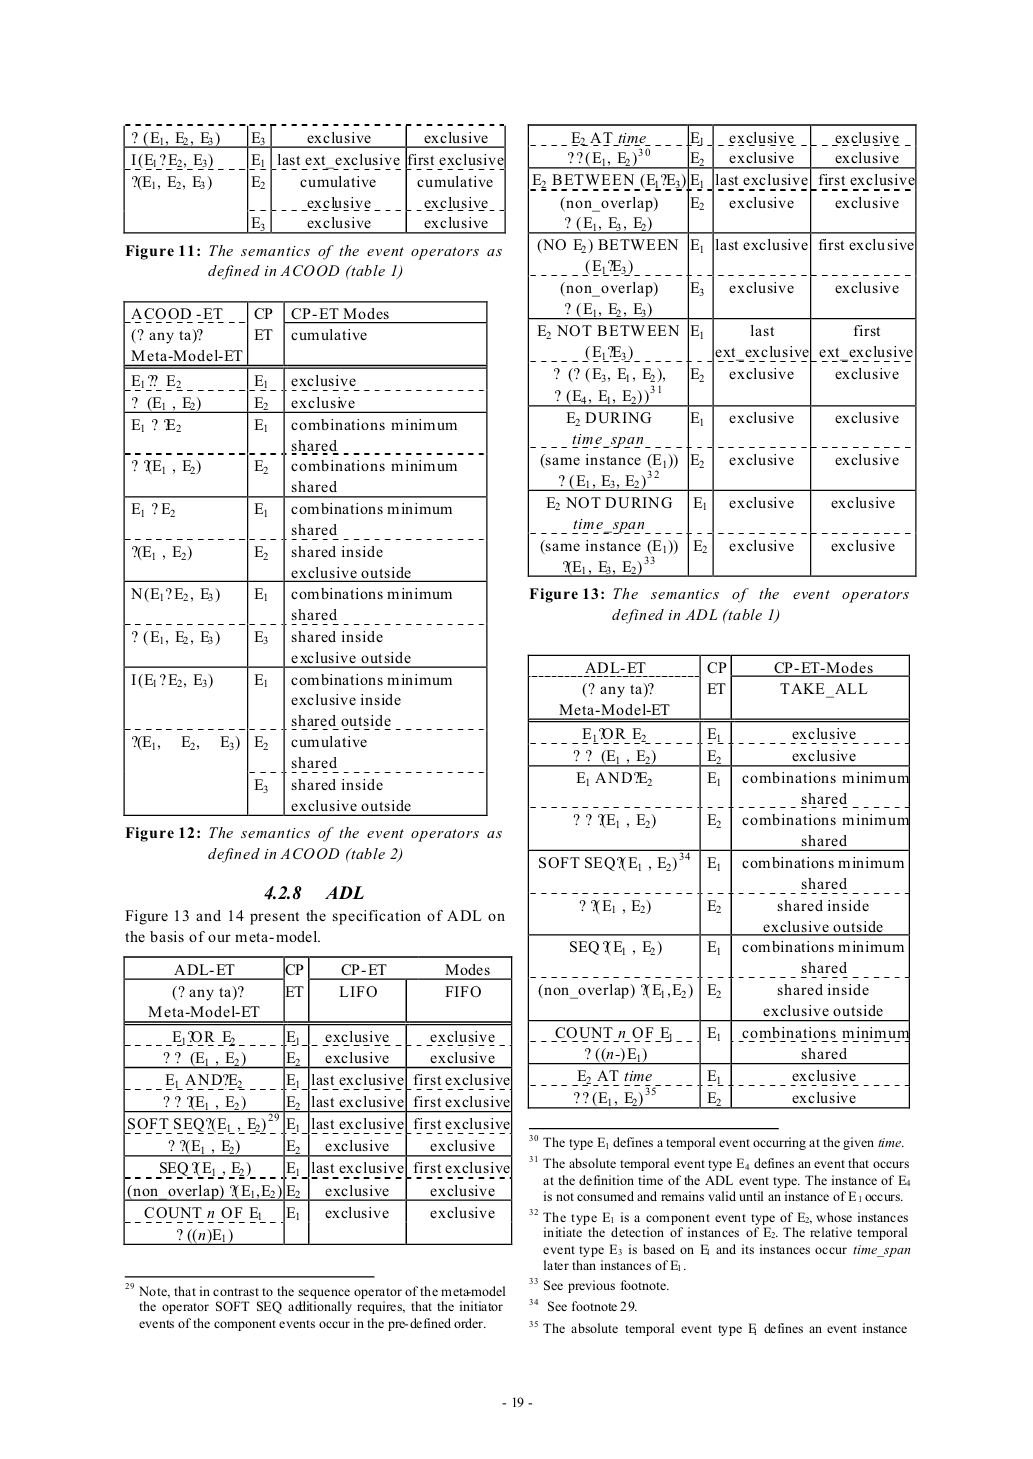Table: (123, 300, 487, 816), (527, 122, 916, 577), (527, 652, 909, 1109), (123, 955, 512, 1245), (123, 122, 505, 234)
figure: (124, 1275, 375, 1278)
